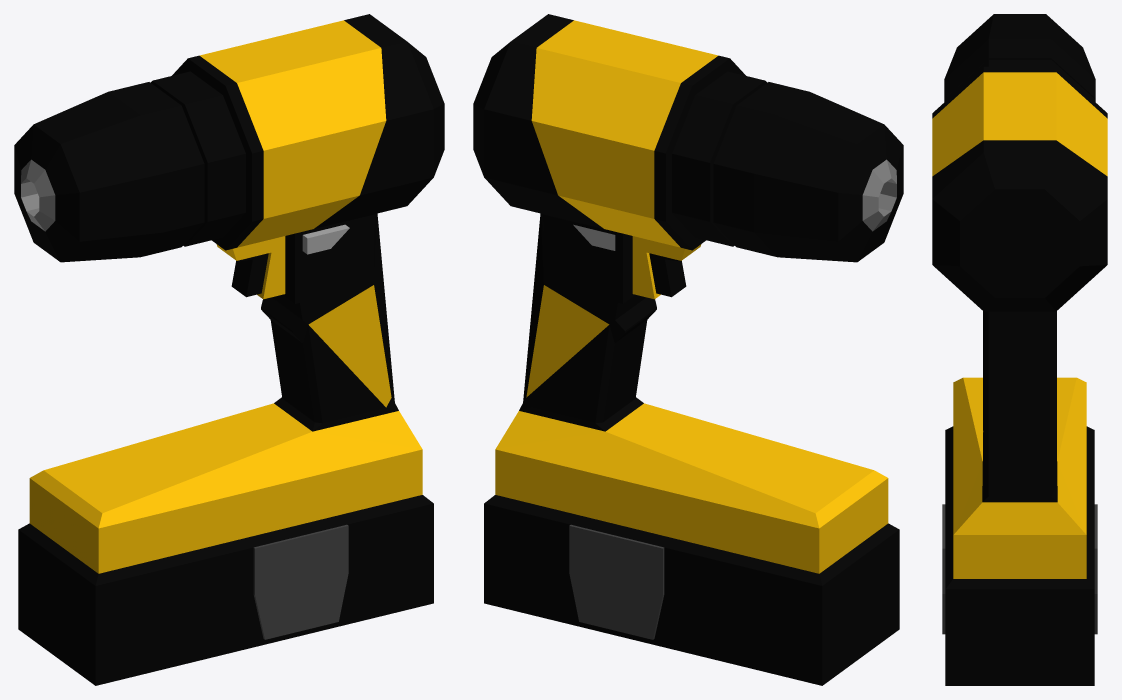
File: HandheldDrill.fbx
3 renders of one model, left to right at view 1: azimuth 30°, elevation 25°; view 2: azimuth 150°, elevation 25°; view 3: azimuth 270°, elevation 25°, orthographic. The views are drawn at different scales.
Visible parts, largest first — view 1: Cube; view 2: Cube; view 3: Cube.
Part boxes in pixels (x1=…): Cube: x1=14, y1=14, x2=444, y2=685; Cube: x1=473, y1=14, x2=903, y2=685; Cube: x1=932, y1=14, x2=1107, y2=685.
Size of the model in its own units: 14.33 by 19.61 by 5.88.
